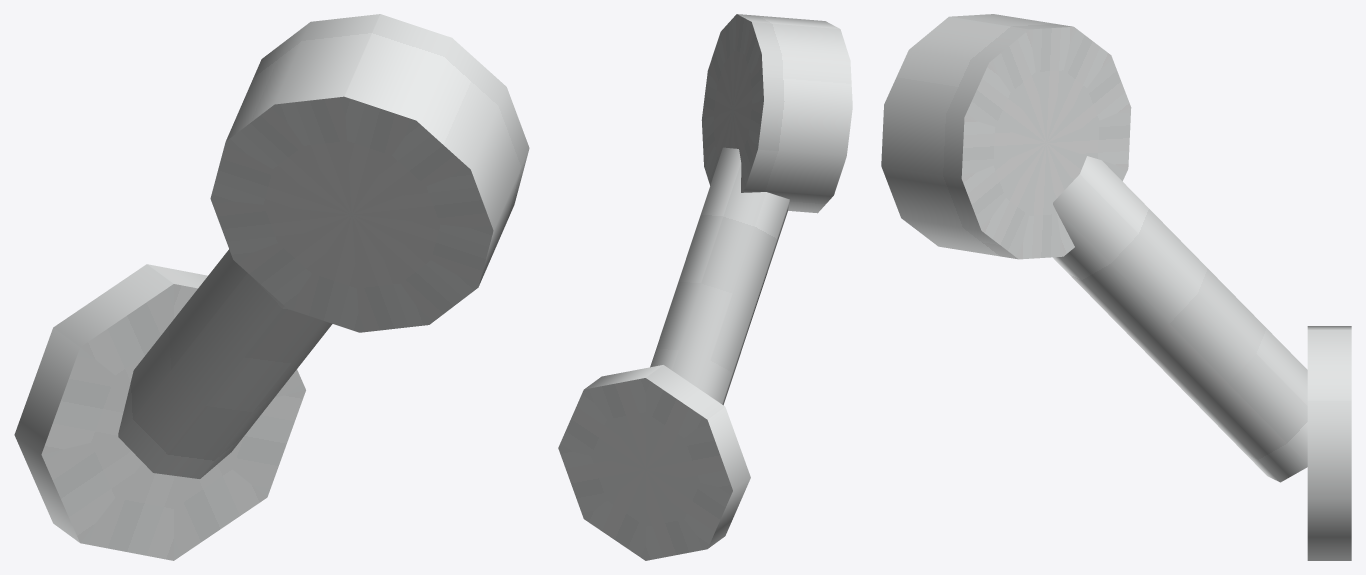
The model's file is nycsignalarm_stub_247.obj.
3 views of the same model, side by side, from view 1: azimuth 30°, elevation 25°; view 2: azimuth 150°, elevation 25°; view 3: azimuth 270°, elevation 25° (orthographic). The views are drawn at different scales.
Visible parts, largest first — view 1: nycsignalarm_stub_247; view 2: nycsignalarm_stub_247; view 3: nycsignalarm_stub_247.
Boxes of the visible parts, x1,y1,x2,y2 form: nycsignalarm_stub_247: (14,14,529,560); nycsignalarm_stub_247: (558,14,852,560); nycsignalarm_stub_247: (881,14,1351,560).
Bounding box in the file's own units: 0.3658 × 0.8368 × 0.6584.
